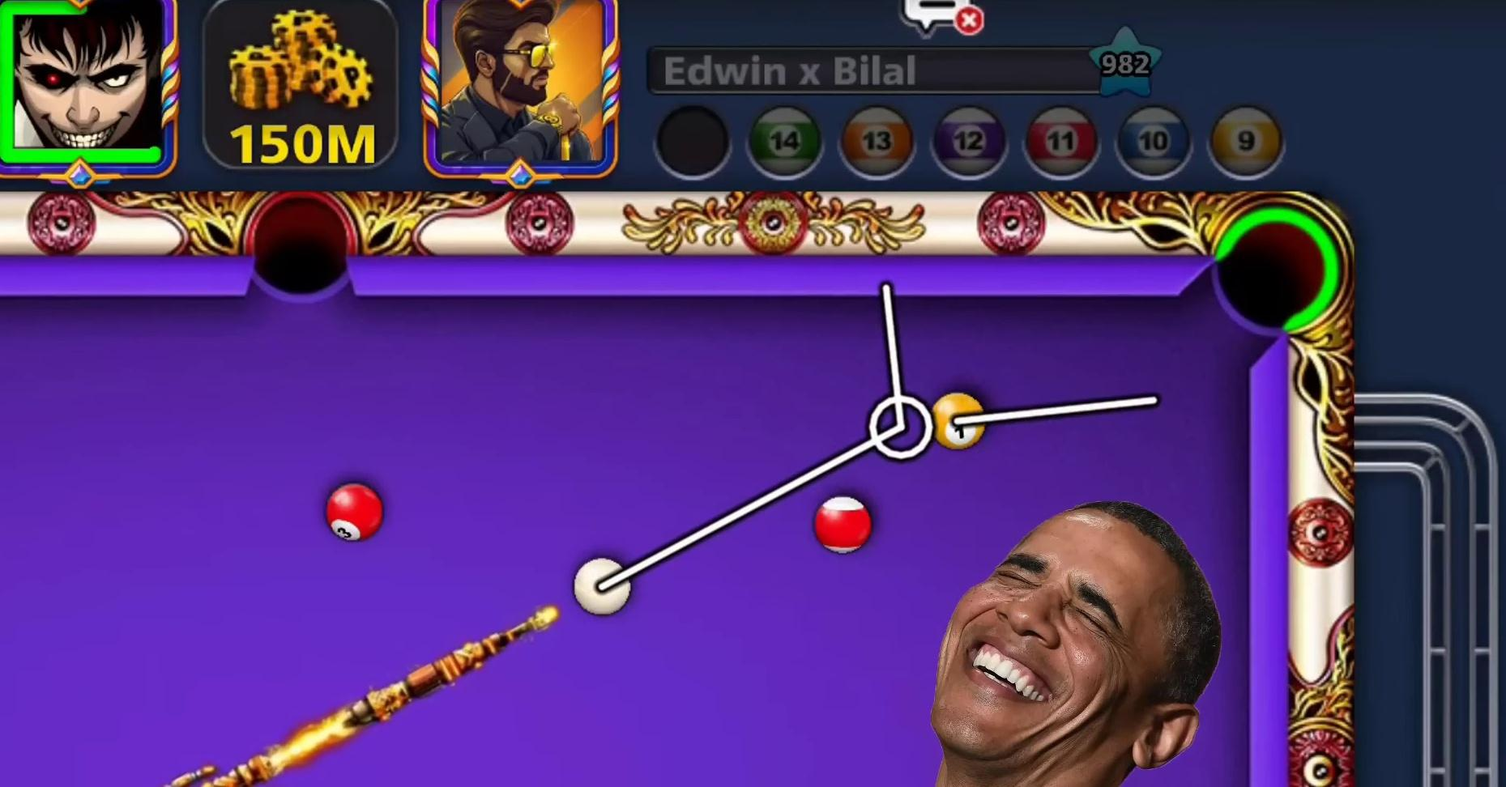Ball: (319, 470, 408, 548), (810, 493, 889, 564), (920, 389, 992, 454)
Guideline: (593, 276, 1169, 597)
Hole: (1207, 187, 1348, 346), (232, 182, 370, 312)
White: (562, 552, 643, 620)
